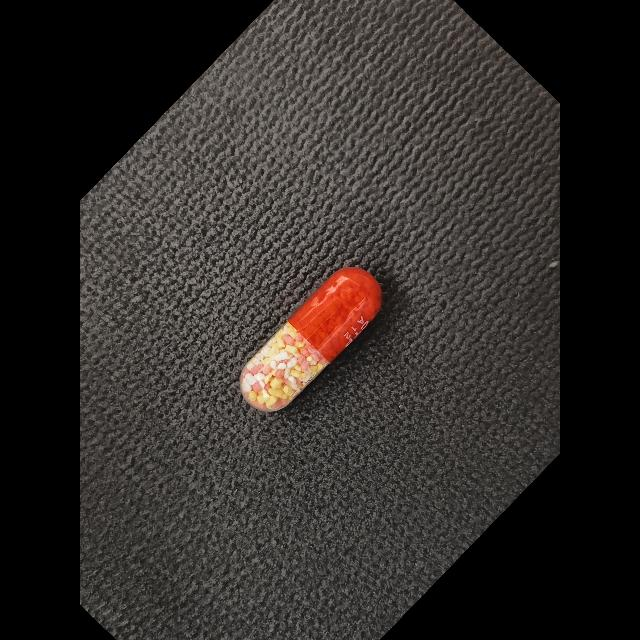Intact Capsule: (239, 267, 382, 412)
